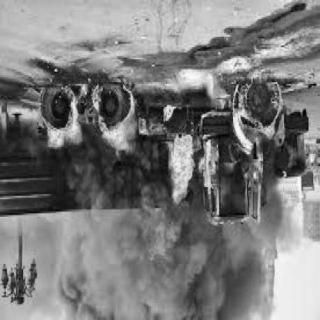Fire: (34, 80, 136, 164)
Smoke: (30, 216, 280, 320)
